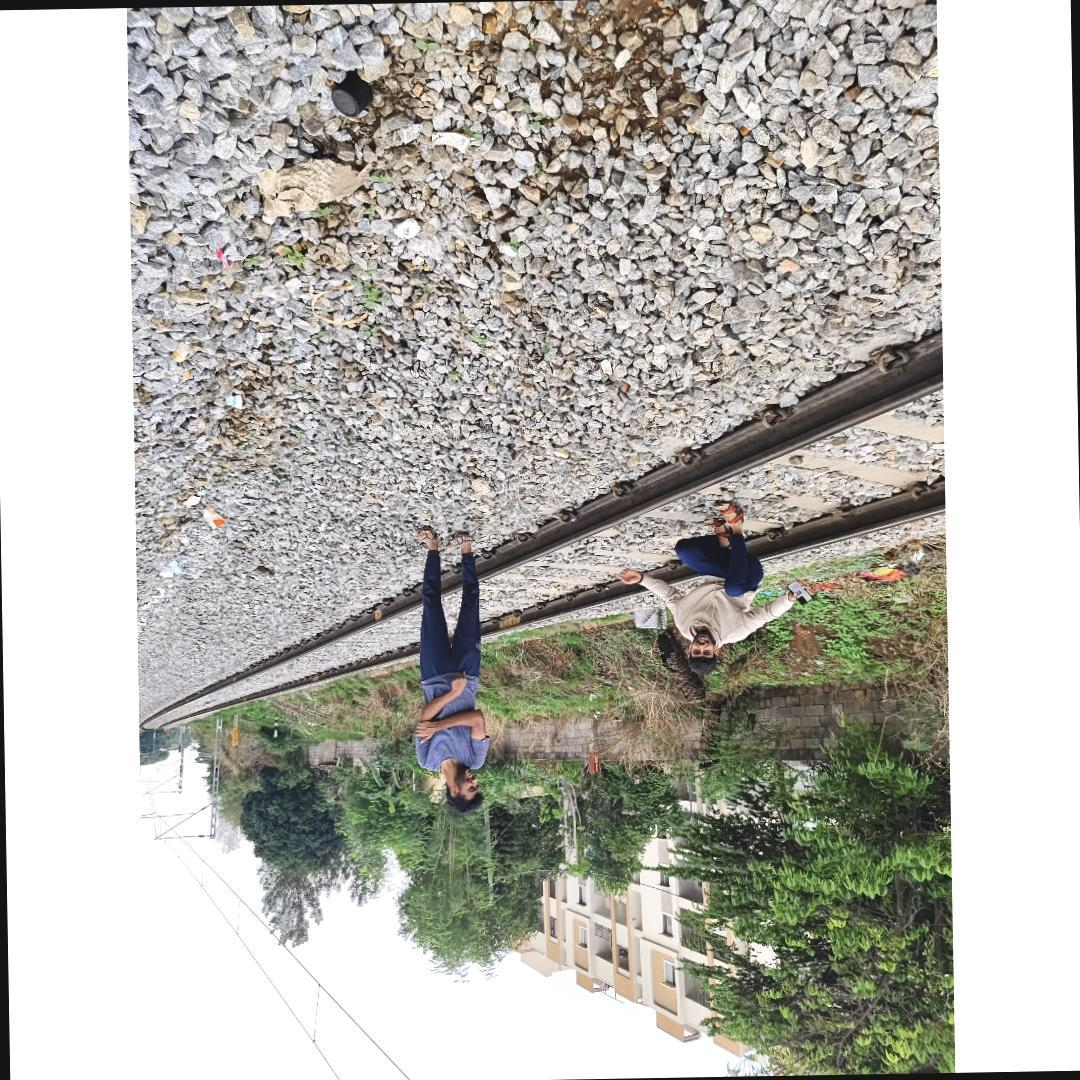sitting: (618, 498, 804, 676)
standing: (407, 526, 492, 814)
track: (138, 273, 945, 739)
